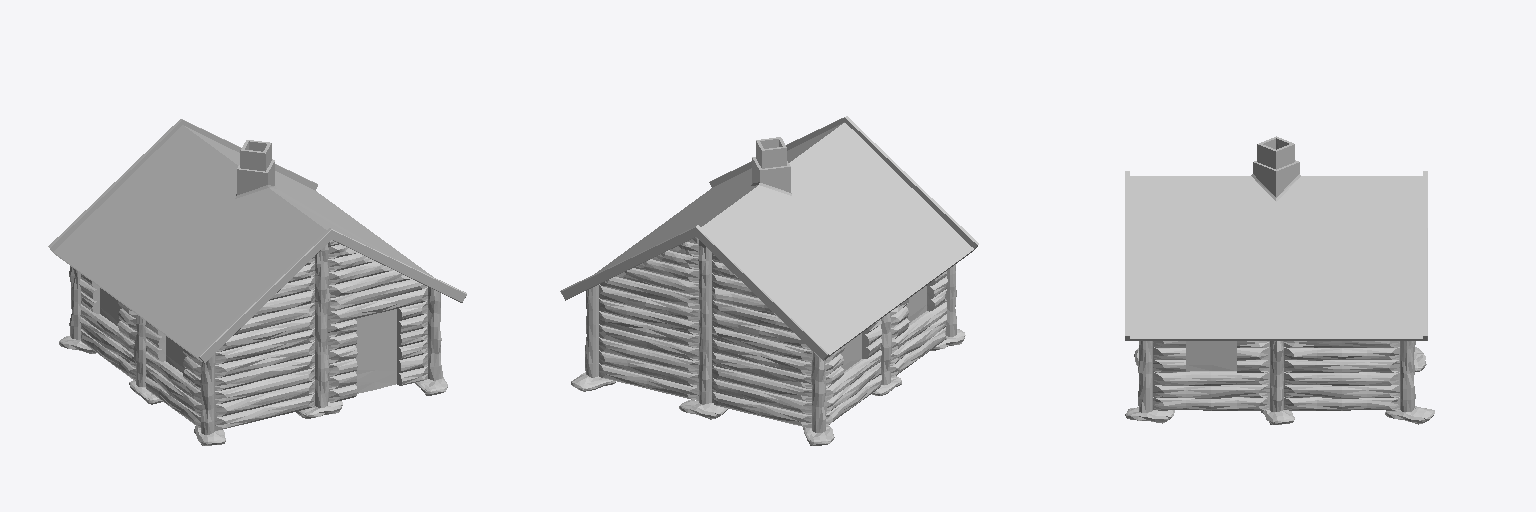
Rendered from house.obj.
3 views of the same model, side by side, from view 1: azimuth 30°, elevation 25°; view 2: azimuth 150°, elevation 25°; view 3: azimuth 270°, elevation 25° (orthographic).
Parts seen in each view (by area): view 1: wall; view 2: wall; view 3: wall.
Part boxes in pixels (x1,y1,x2,y2): wall: (48, 119, 466, 445); wall: (560, 116, 978, 445); wall: (1125, 136, 1434, 424).
Bounding box in the file's own units: 4.83 × 3.82 × 4.84.